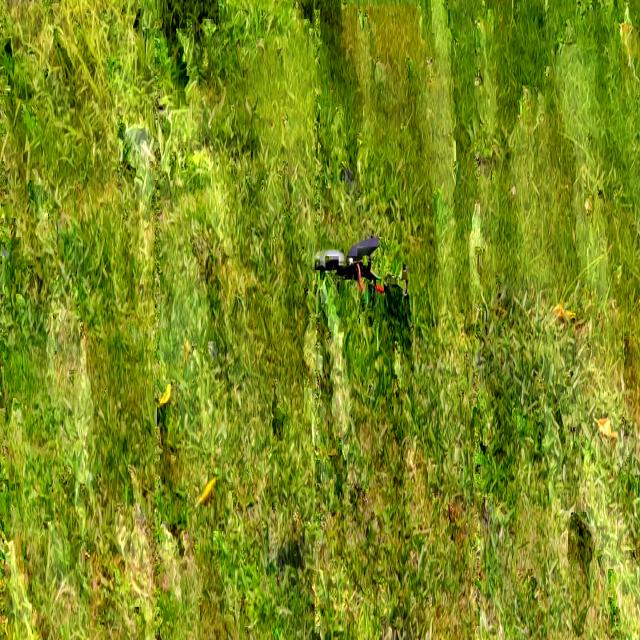drone: (305, 232, 390, 304)
